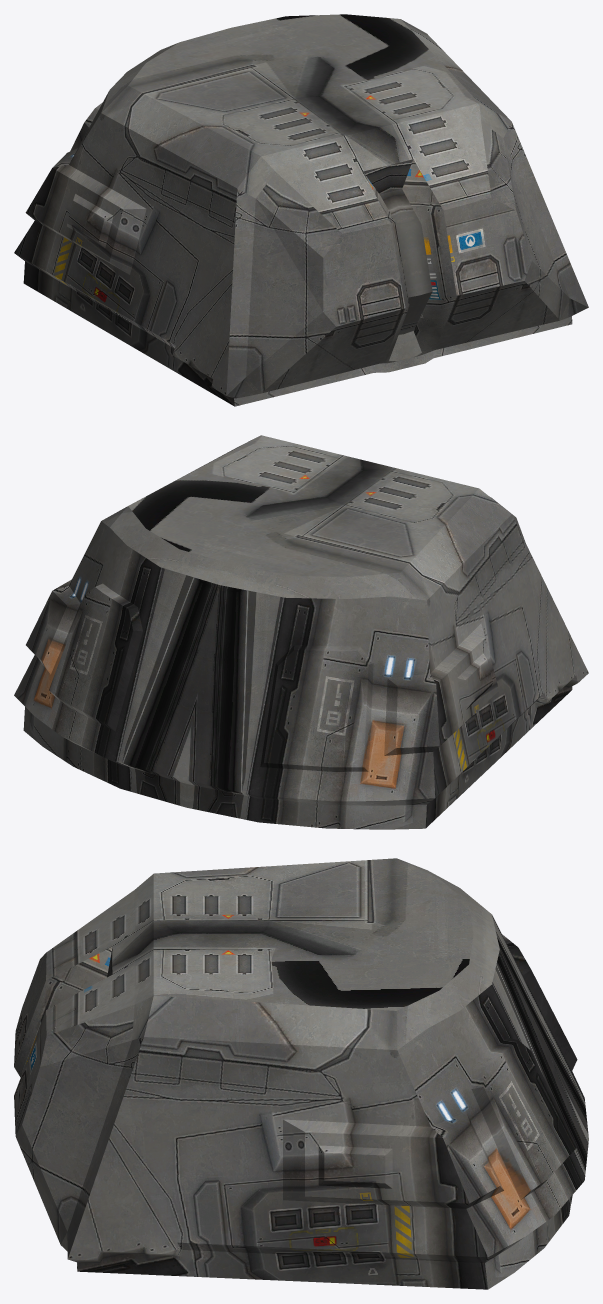
The picture shows the model from 3 angles, top to bottom: view 1: azimuth 30°, elevation 25°; view 2: azimuth 150°, elevation 25°; view 3: azimuth 270°, elevation 25°; orthographic projection. The views are drawn at different scales.
Parts seen in each view (by area): view 1: gun_rm; view 2: gun_rm; view 3: gun_rm.
Boxes of the visible parts, left/top/right/bottom form: gun_rm: left=14, top=14, right=588, bottom=406; gun_rm: left=14, top=435, right=588, bottom=829; gun_rm: left=14, top=858, right=588, bottom=1289.
Bounding box in the file's own units: 42.89 × 20.56 × 44.17.
